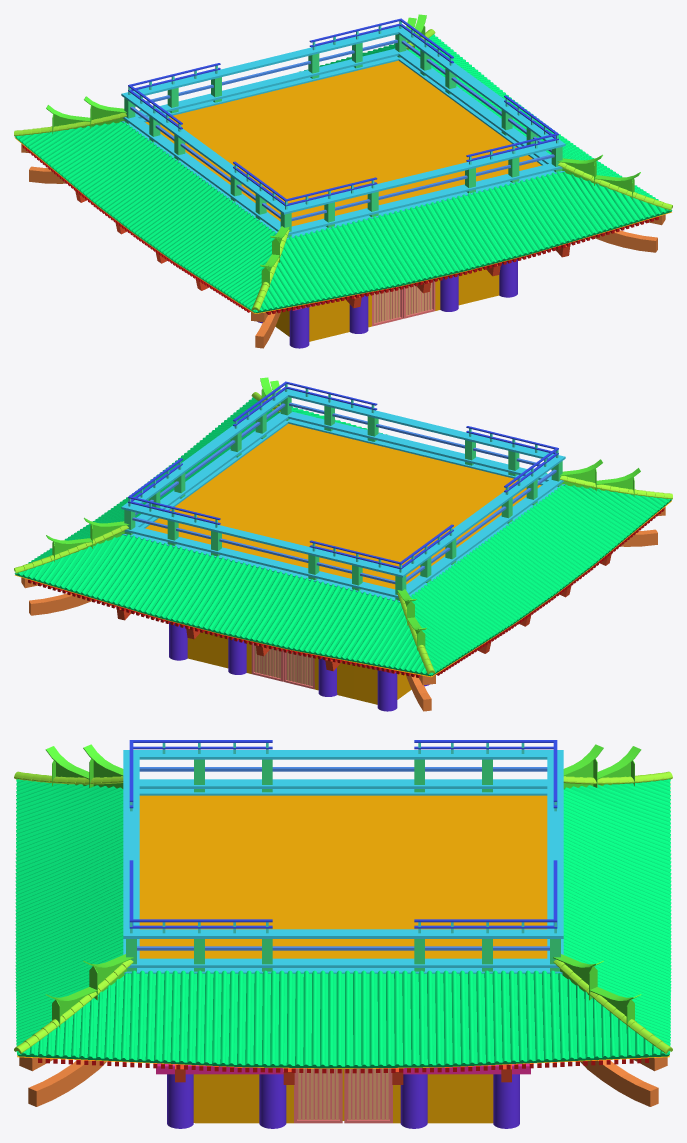
Rendered from PagodaMiddle.FBX.
3 views of the same model, one above another, from view 1: azimuth 30°, elevation 25°; view 2: azimuth 150°, elevation 25°; view 3: azimuth 270°, elevation 25° (orthographic). The views are drawn at different scales.
Parts seen in each view (by area): view 1: PagodaMid, Segment, Fence_Segment02, Fence_Segment25, Fence_Segment45, Fence_Segment83, Fence_Segment01, Fence_Segment28, Fence_Segment23, Fence_Segment27, Fence_Segment87, Fence_Segment03 (×2) (+18 smaller); view 2: PagodaMid, Segment, Fence_Segment01 (×2), Fence_Segment25, Fence_Segment02, Fence_Segment83, Fence_Segment45, Fence_Segment28, Fence_Segment23, Fence_Segment27, Fence_Segment21, ArchTiles008 (+18 smaller); view 3: PagodaMid, Segment, Fence_Segment01 (×2), Fence_Segment23, Fence_Segment27, Fence_Segment28, Fence_Segment56, Fence_Segment25, Fence_Segment02, Fence_Segment03 (×2), Fence_Segment26, ArchTiles008 (+20 smaller).
Part boxes in pixels (x1,y1,x2,y2): PagodaMid: (15, 34, 672, 313); Segment: (14, 60, 671, 341); Fence_Segment02: (278, 142, 554, 214); Fence_Segment25: (133, 26, 405, 96); Fence_Segment45: (278, 164, 554, 235); Fence_Segment83: (135, 48, 408, 118); Fence_Segment01: (121, 92, 284, 209); Fence_Segment28: (123, 115, 280, 231); Fence_Segment23: (398, 30, 565, 148); Fence_Segment27: (398, 51, 562, 169); Fence_Segment87: (140, 56, 401, 122); Fence_Segment03 (×2): (130, 106, 602, 218); PagodaMid: (14, 397, 671, 676); Segment: (15, 423, 671, 704); Fence_Segment01 (×2): (392, 459, 672, 577); Fence_Segment25: (121, 502, 397, 574); Fence_Segment02: (288, 390, 565, 462); Fence_Segment83: (124, 526, 395, 596); Fence_Segment45: (288, 412, 563, 484); Fence_Segment28: (392, 480, 559, 598); Fence_Segment23: (133, 389, 293, 503); Fence_Segment27: (135, 411, 293, 527); Fence_Segment21: (288, 419, 565, 487); ArchTiles008: (21, 577, 91, 615); PagodaMid: (15, 779, 671, 1084); Segment: (17, 782, 670, 1123); Fence_Segment01 (×2): (14, 750, 563, 784); Fence_Segment23: (123, 929, 547, 938); Fence_Segment27: (128, 958, 547, 967); Fence_Segment28: (139, 779, 547, 788); Fence_Segment56: (139, 789, 547, 795); Fence_Segment25: (547, 757, 563, 938); Fence_Segment02: (123, 750, 139, 929); Fence_Segment03 (×2): (83, 767, 547, 1000); Fence_Segment26: (137, 946, 549, 950); ArchTiles008: (580, 1057, 667, 1106).
Bounding box in the file's own units: 477 × 179 × 477.
